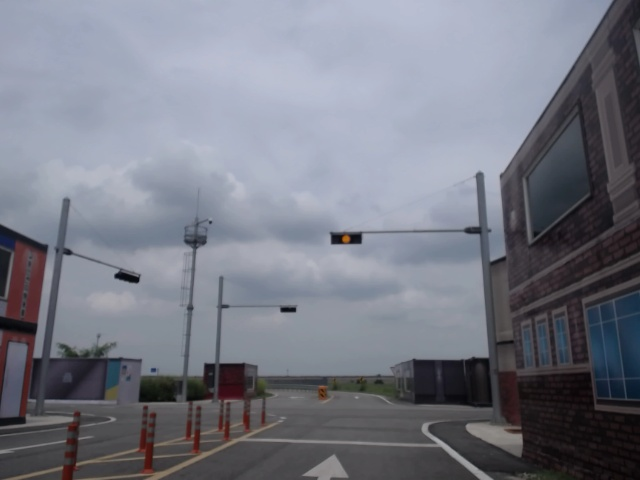orange_3: (331, 232, 362, 244)
